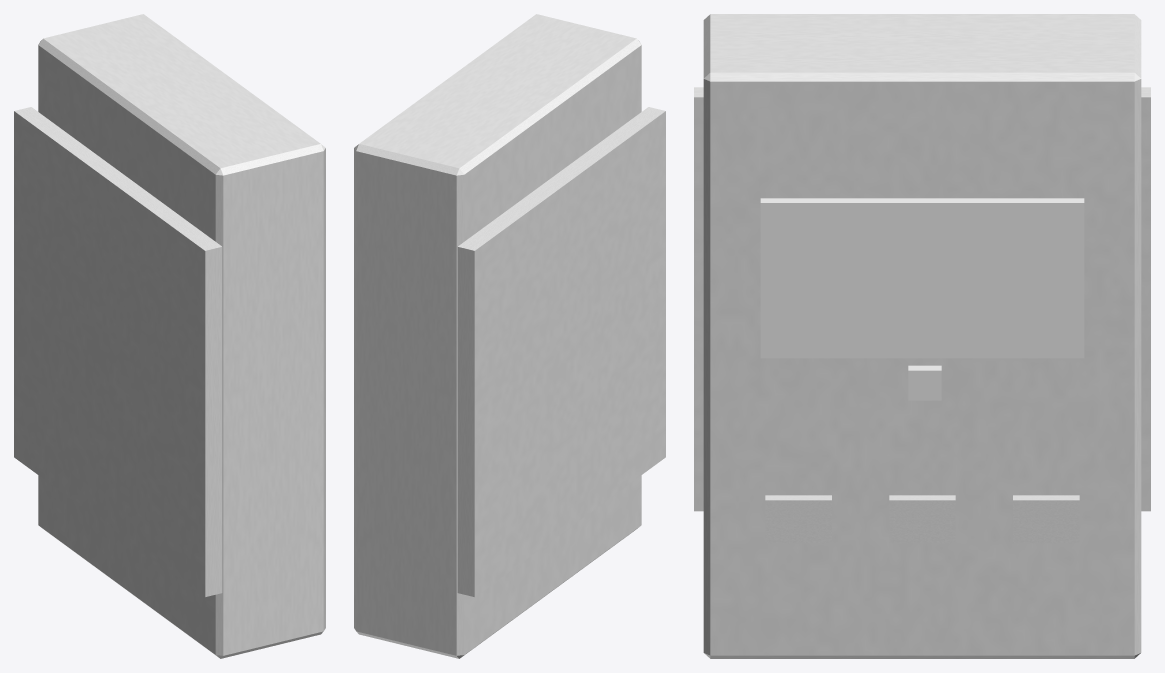
Rendered from firealarm_panel.obj.
3 renders of one model, left to right at view 1: azimuth 30°, elevation 25°; view 2: azimuth 150°, elevation 25°; view 3: azimuth 270°, elevation 25°, orthographic. The views are drawn at different scales.
Parts seen in each view (by area): view 1: Case, Base; view 2: Case, Base; view 3: Case, Screen, Label, Base, LED.
Boxes of the visible parts, box(x1,y1,x2,y2) form: Case: box(38, 14, 325, 658); Base: box(14, 107, 222, 597); Case: box(354, 14, 641, 658); Base: box(457, 107, 665, 597); Case: box(703, 14, 1141, 658); Screen: box(760, 198, 1084, 358); Label: box(765, 495, 1079, 543); Base: box(694, 87, 1150, 511); LED: box(908, 365, 941, 400).
Bounding box in the file's own units: 0.222 × 0.68 × 0.48.
